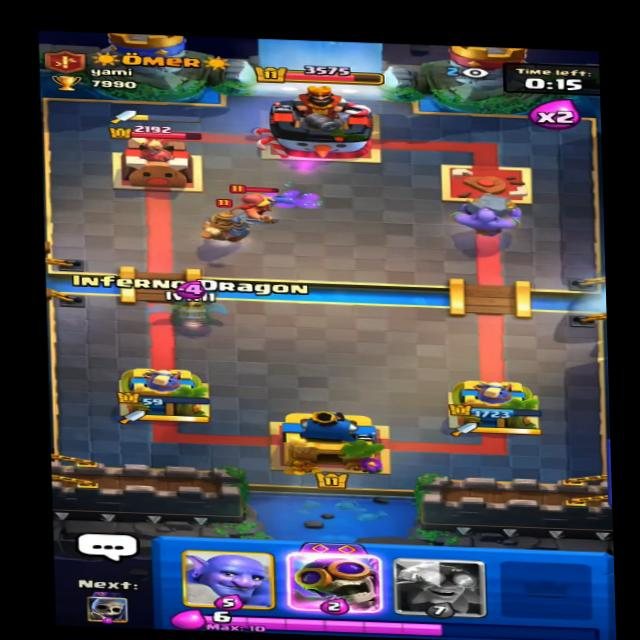fisherman: (230, 180, 305, 227)
prince: (201, 199, 262, 251)
